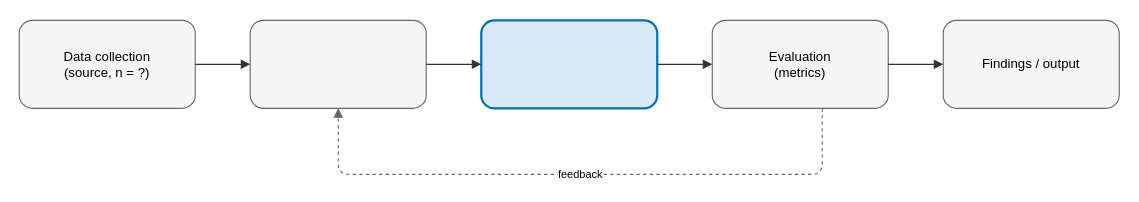
This 1139x202 diagram has some shape labels left out. The shapes that lost their labels are listed below. From the top down, each one's centre as x and y in pixels, then its label:
the point at 337,63: Pre-processing
the point at 569,64: Proposed method
